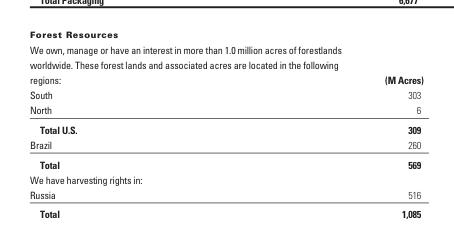table: (28, 28, 422, 219)
table column: (28, 28, 362, 219), (362, 28, 422, 219)
table projected row header: (28, 171, 422, 186)
table row: (28, 28, 422, 86), (28, 101, 422, 119), (28, 136, 422, 154), (28, 119, 422, 136), (28, 154, 422, 171), (28, 186, 422, 203), (28, 203, 422, 219), (28, 86, 422, 101), (28, 171, 422, 186)
